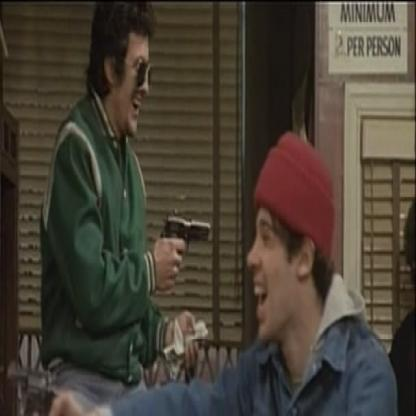gun: (160, 198, 214, 271)
